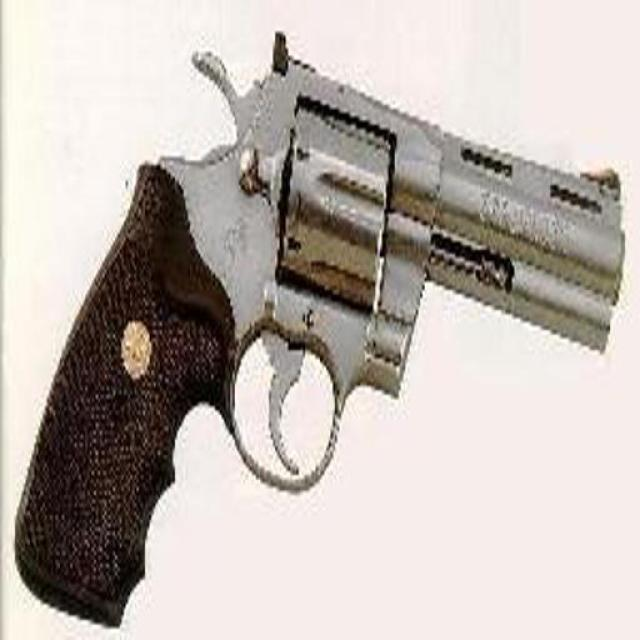pistol: (8, 35, 623, 619)
